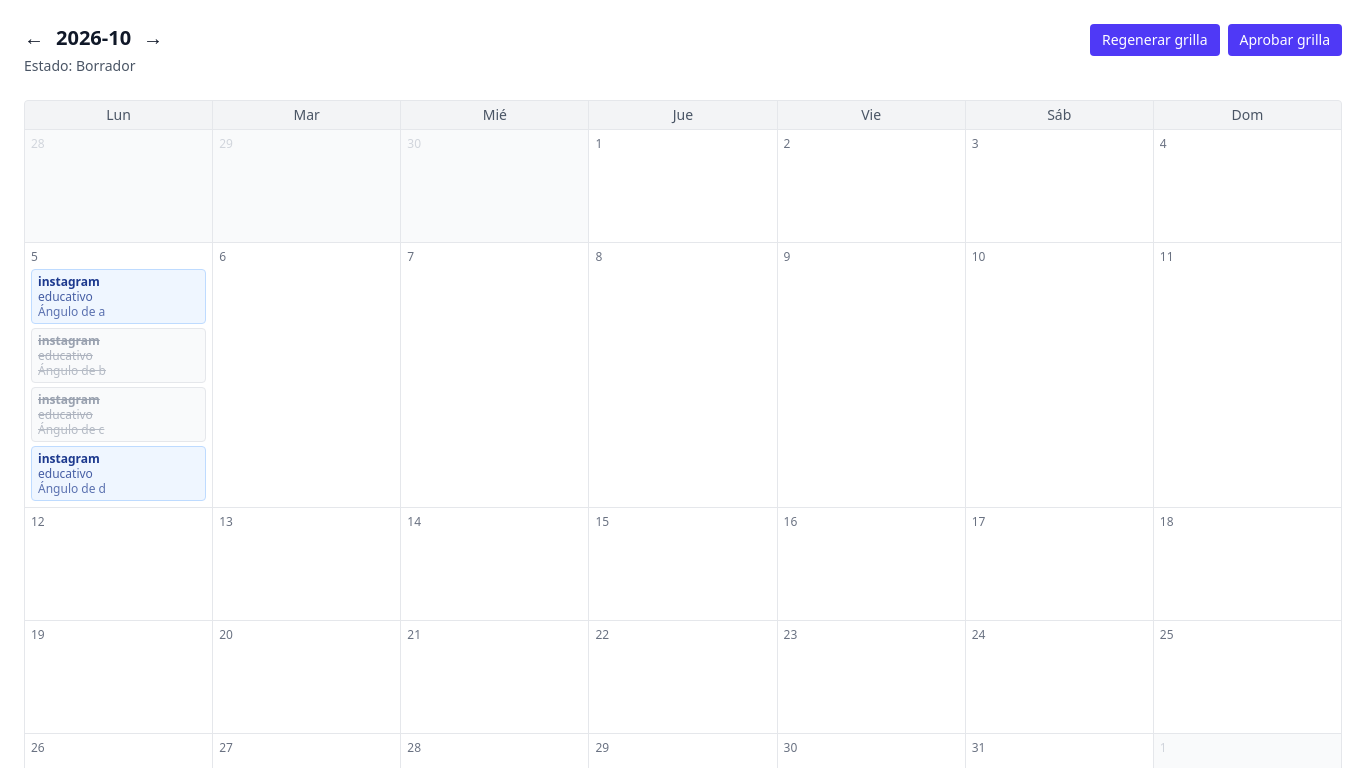
Test: la advertencia de regenerar la grilla › dice cuántos descartes se pierden cuando los hay
The image size is (1366, 768).
What coordinates should you click on to do the following:
click the button "Regenerar grilla"
I would click on:
 (1155, 40)
Its box is [1090,24,1220,56].
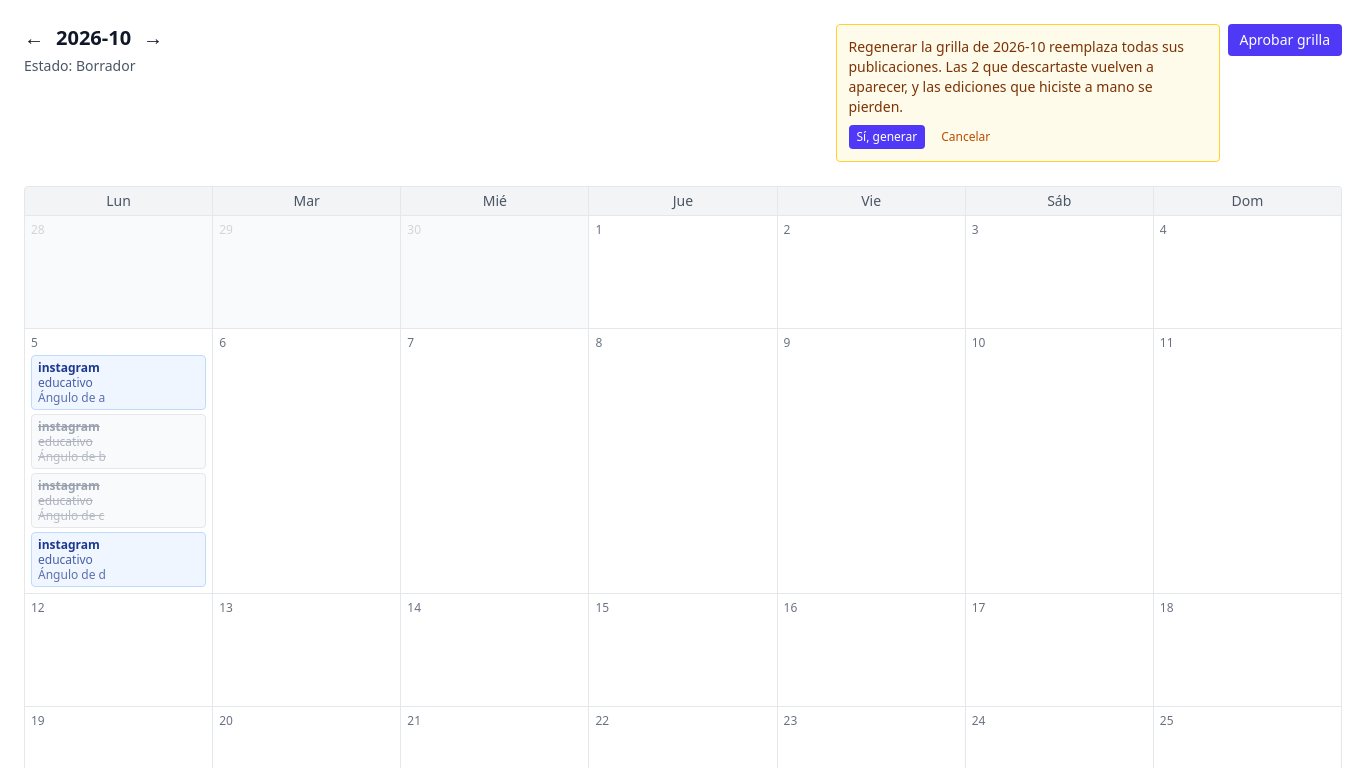
Now the text "Regenerar la grilla de 2026-10" is shown, box [848,37,1184,116]
